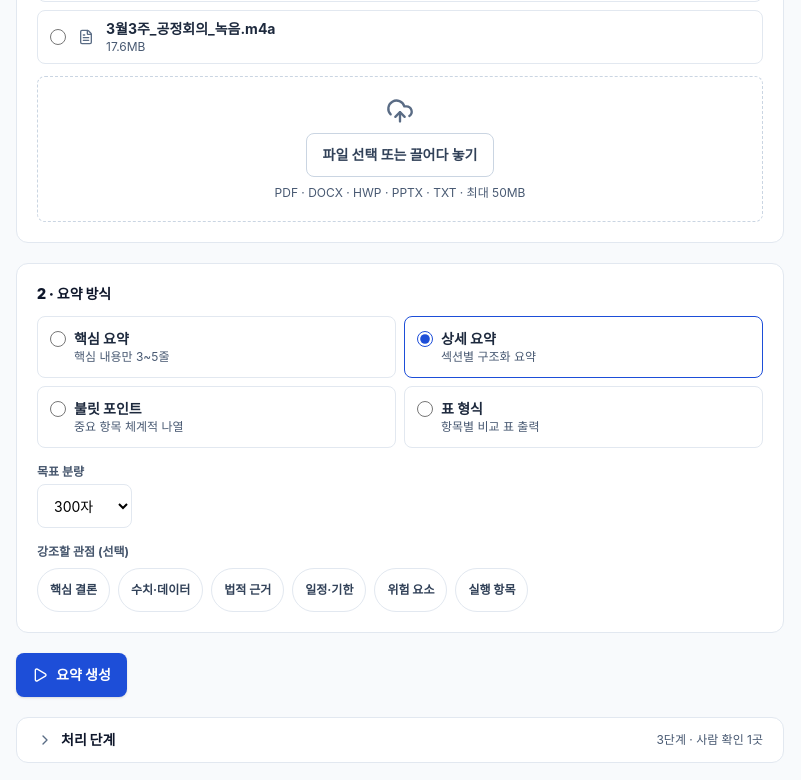
Test: SummaryPage › 실패하면 오류와 재시도를 보여준다
(page scrolled)
What coordinates should you click on to do the following:
click the button "요약 생성"
I would click on:
 (71, 675)
Its box is [16,653,127,697].
(page scrolled)
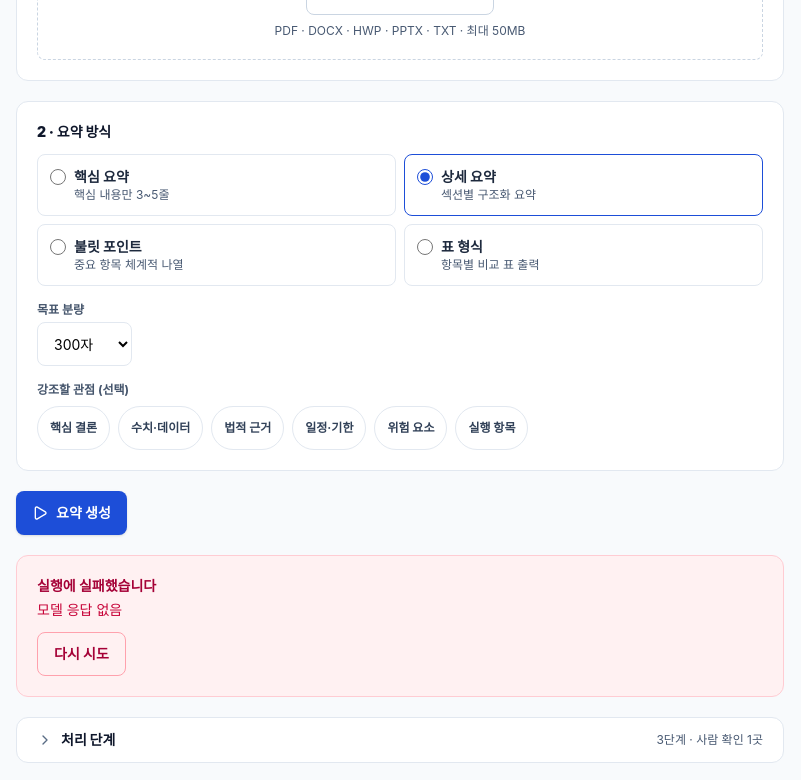
Now the message shows "모델 응답 없음", box [37,601,122,618]
Now the button "다시 시도" is shown, box [37,632,126,676]
